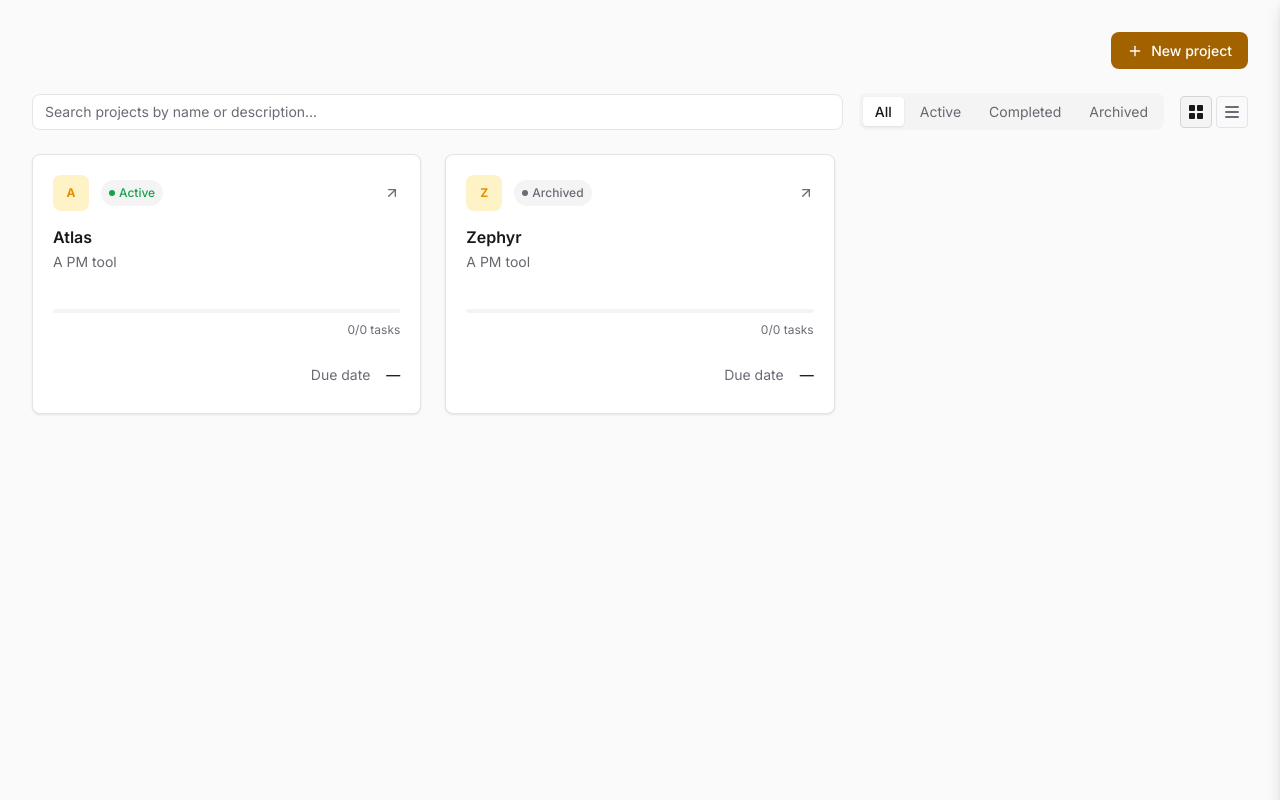
Test: ProjectList search, filter, and view toggle › should filter by status tab
This screenshot has width=1280, height=800.
Click the tab "Archived": [1119, 112] box [1077,97,1160,126]
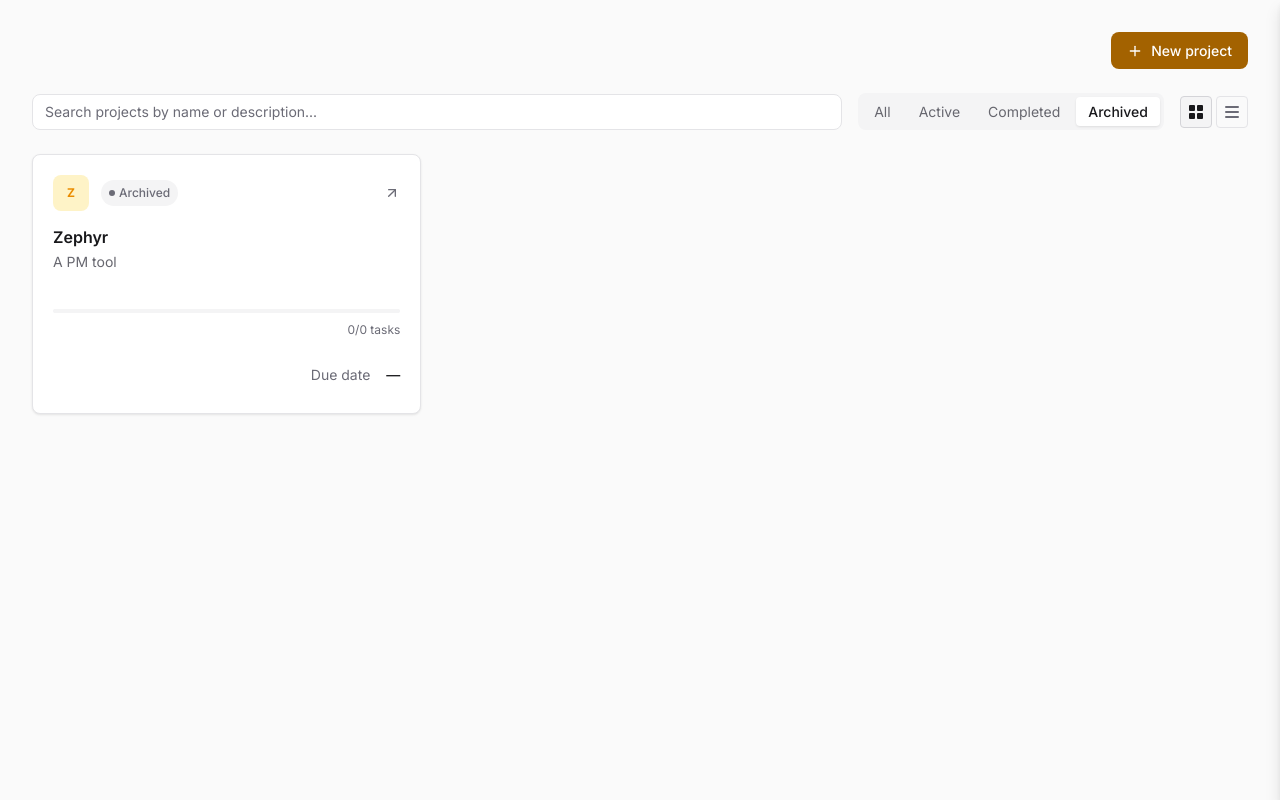
Check: the link "Zephyr" is shown, box [53,227,108,247]
Check: the link "Atlas" is gone
